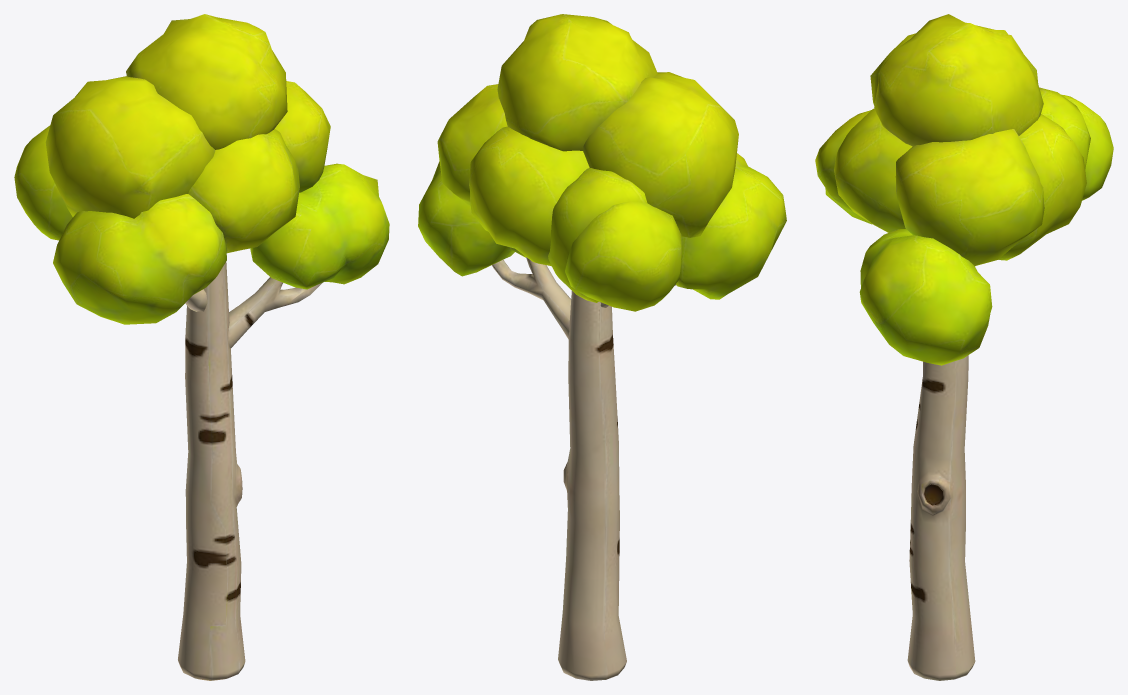
Rendered from tree_birch.glb.
The picture shows the model from 3 angles, left to right: view 1: azimuth 30°, elevation 25°; view 2: azimuth 150°, elevation 25°; view 3: azimuth 270°, elevation 25°; orthographic projection.
Visible parts, largest first — view 1: geometry_0; view 2: geometry_0; view 3: geometry_0.
Part boxes in pixels (x1=…): geometry_0: x1=14, y1=14, x2=389, y2=680; geometry_0: x1=418, y1=14, x2=786, y2=680; geometry_0: x1=815, y1=14, x2=1113, y2=680.
Size of the model in its own units: 0.5034 by 0.9526 by 0.396.
1 material, 1 textured.
